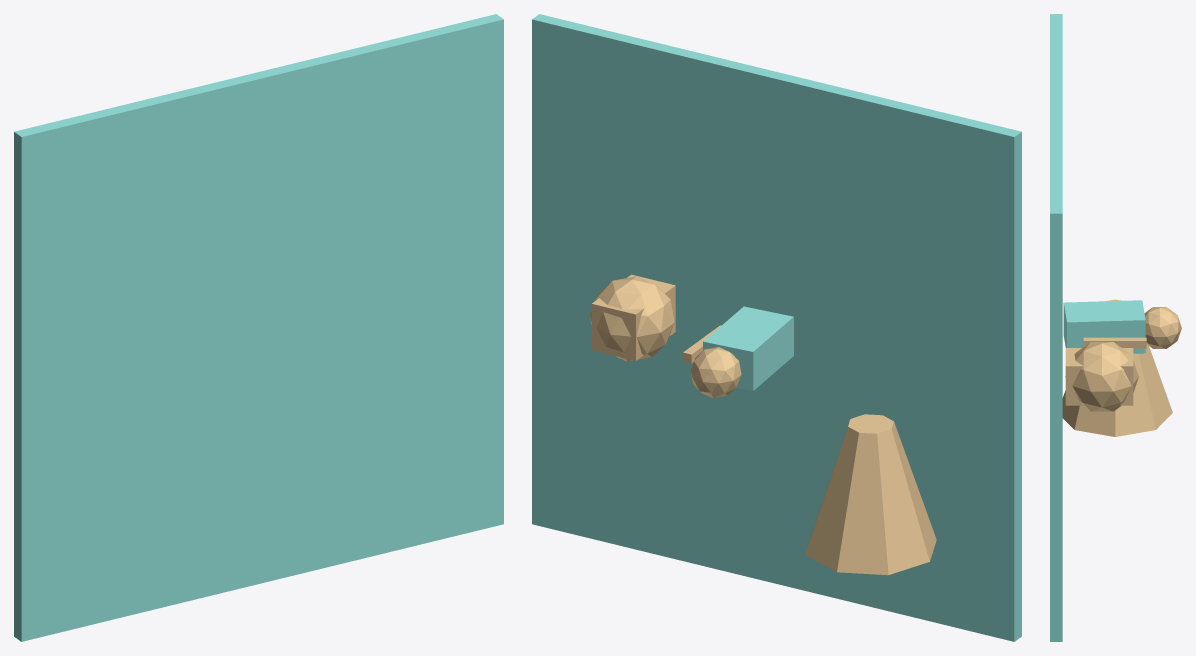
Rendered from frontier-odyssey-kit.glb.
3 renders of one model, left to right at view 1: azimuth 30°, elevation 25°; view 2: azimuth 150°, elevation 25°; view 3: azimuth 270°, elevation 25°, orthographic. The views are drawn at different scales.
Visible parts, largest first — view 1: ENVIRONMENT_GROUND; view 2: ENVIRONMENT_GROUND, ENVIRONMENT_LANDMARK, PLAYER_BODY, OBSTACLE, PROFILE_OBSTACLE_DETAIL, PLAYER_HEAD; view 3: ENVIRONMENT_GROUND, ENVIRONMENT_LANDMARK, OBSTACLE, PLAYER_BODY, PLAYER_HEAD, PROFILE_OBSTACLE_DETAIL, PLAYER_TOOL.
Boxes of the visible parts, <box> form: ENVIRONMENT_GROUND: <box>14,14,503,641</box>; ENVIRONMENT_GROUND: <box>532,14,1021,641</box>; ENVIRONMENT_LANDMARK: <box>805,414,936,575</box>; PLAYER_BODY: <box>703,306,793,390</box>; OBSTACLE: <box>590,276,674,361</box>; PROFILE_OBSTACLE_DETAIL: <box>591,274,675,360</box>; PLAYER_HEAD: <box>690,347,741,398</box>; ENVIRONMENT_GROUND: <box>1050,14,1062,641</box>; ENVIRONMENT_LANDMARK: <box>1062,299,1172,436</box>; OBSTACLE: <box>1065,342,1138,411</box>; PLAYER_BODY: <box>1063,300,1145,353</box>; PLAYER_HEAD: <box>1144,307,1181,348</box>; PROFILE_OBSTACLE_DETAIL: <box>1065,348,1133,405</box>; PLAYER_TOOL: <box>1083,337,1146,348</box>.
Size of what is drawn, in the model's own units: 9 by 9 by 2.51.
